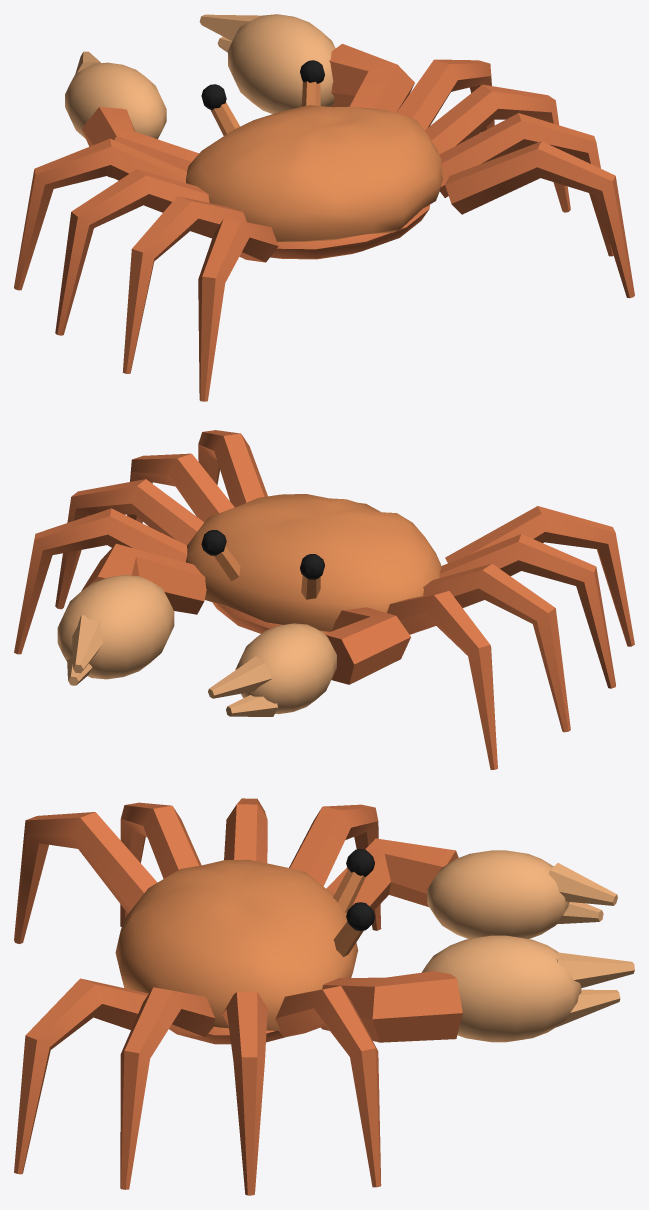
File: caranguejo_cozido.glb
3 renders of one model, top to bottom at view 1: azimuth 30°, elevation 25°; view 2: azimuth 150°, elevation 25°; view 3: azimuth 270°, elevation 25°, orthographic. The views are drawn at different scales.
Visible parts, largest first — view 1: caranguejo_cozido; view 2: caranguejo_cozido; view 3: caranguejo_cozido.
Part boxes in pixels (x1=…): caranguejo_cozido: x1=14, y1=14, x2=634, y2=401; caranguejo_cozido: x1=14, y1=430, x2=634, y2=769; caranguejo_cozido: x1=14, y1=798, x2=634, y2=1195.
Size of the model in its own units: 0.2714 by 0.0824 by 0.2559.
